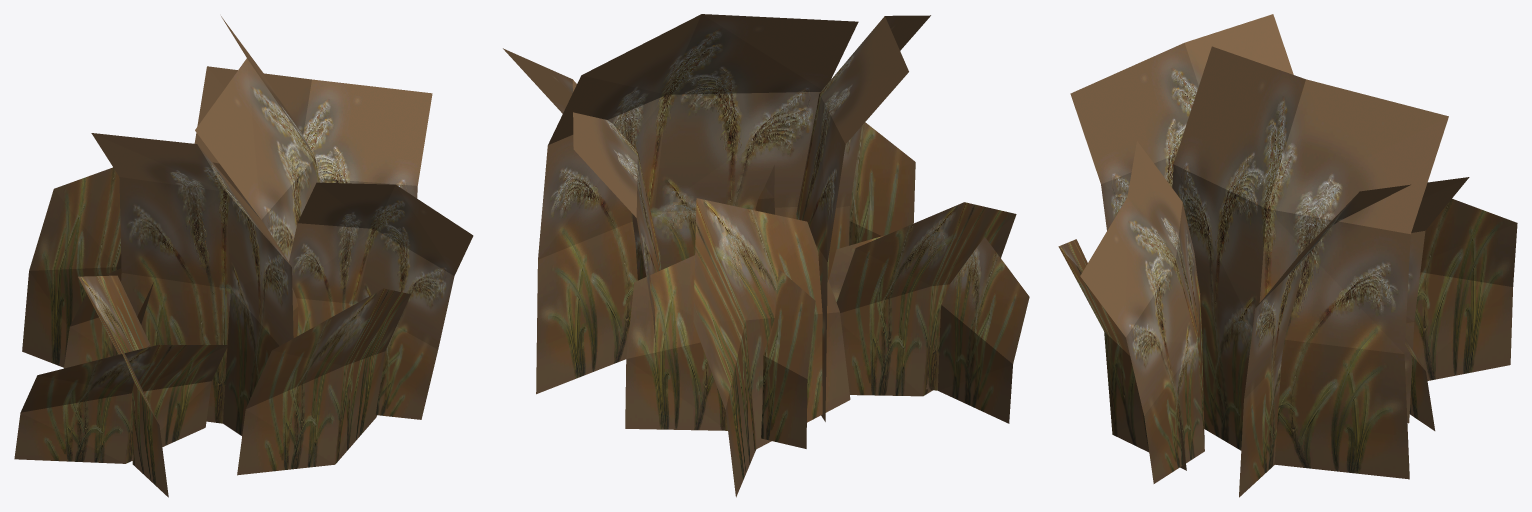
File: bg_anh_foliage_te_b92_sm_old.FBX
The picture shows the model from 3 angles, left to right: view 1: azimuth 30°, elevation 25°; view 2: azimuth 150°, elevation 25°; view 3: azimuth 270°, elevation 25°; orthographic projection. The views are drawn at different scales.
Parts seen in each view (by area): view 1: bg_anh_foliage_te_b92_sm_old; view 2: bg_anh_foliage_te_b92_sm_old; view 3: bg_anh_foliage_te_b92_sm_old.
Part boxes in pixels (left/top/right/bottom): bg_anh_foliage_te_b92_sm_old: left=14, top=16, right=473, bottom=497; bg_anh_foliage_te_b92_sm_old: left=503, top=14, right=1029, bottom=497; bg_anh_foliage_te_b92_sm_old: left=1058, top=14, right=1517, bottom=497.
Bounding box in the file's own units: 230 × 170 × 198.
